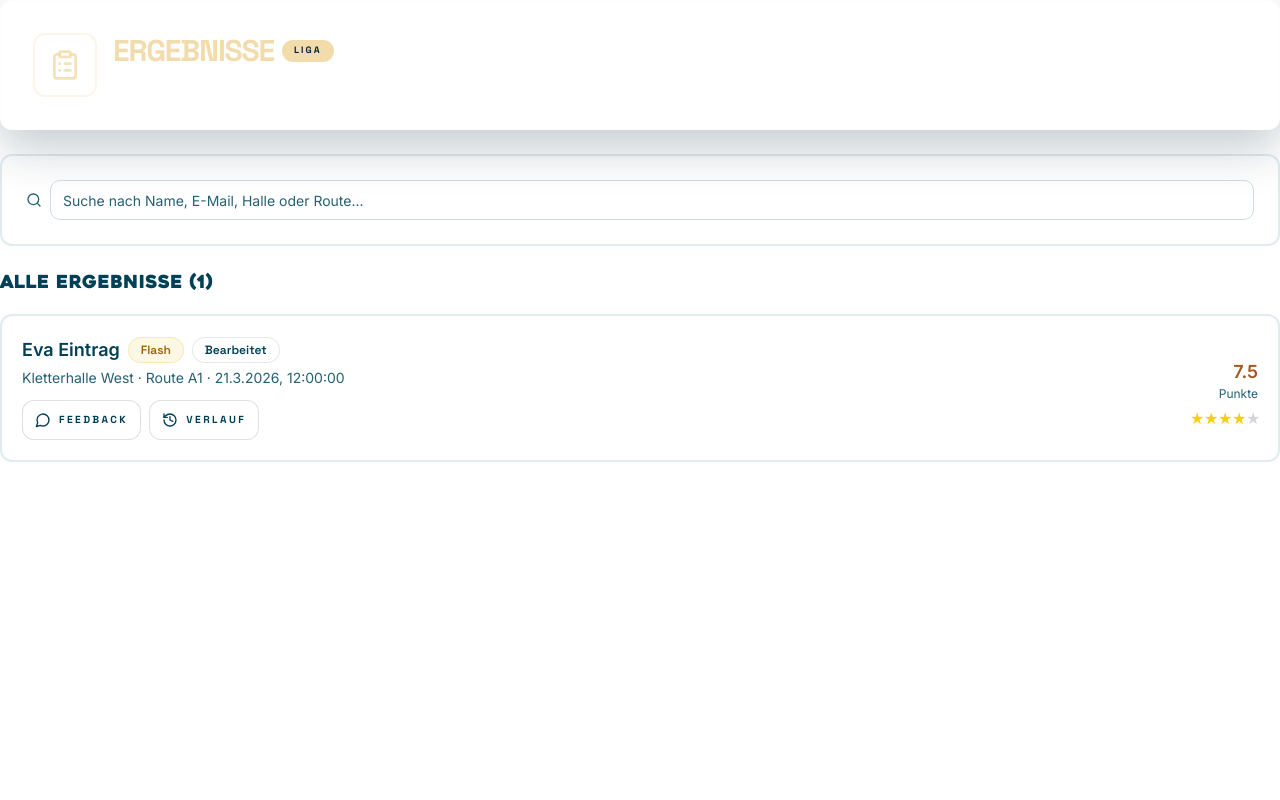
Scenario: LeagueResults › shows the audit history for a result
Expected: the text "Eva Eintrag" is shown, [22, 336, 120, 364]
Click the button with aria-label "verlauf fuer ergebnis a1 von eva eintrag anzeigen". click: click(204, 420)
box: [149, 400, 259, 440]
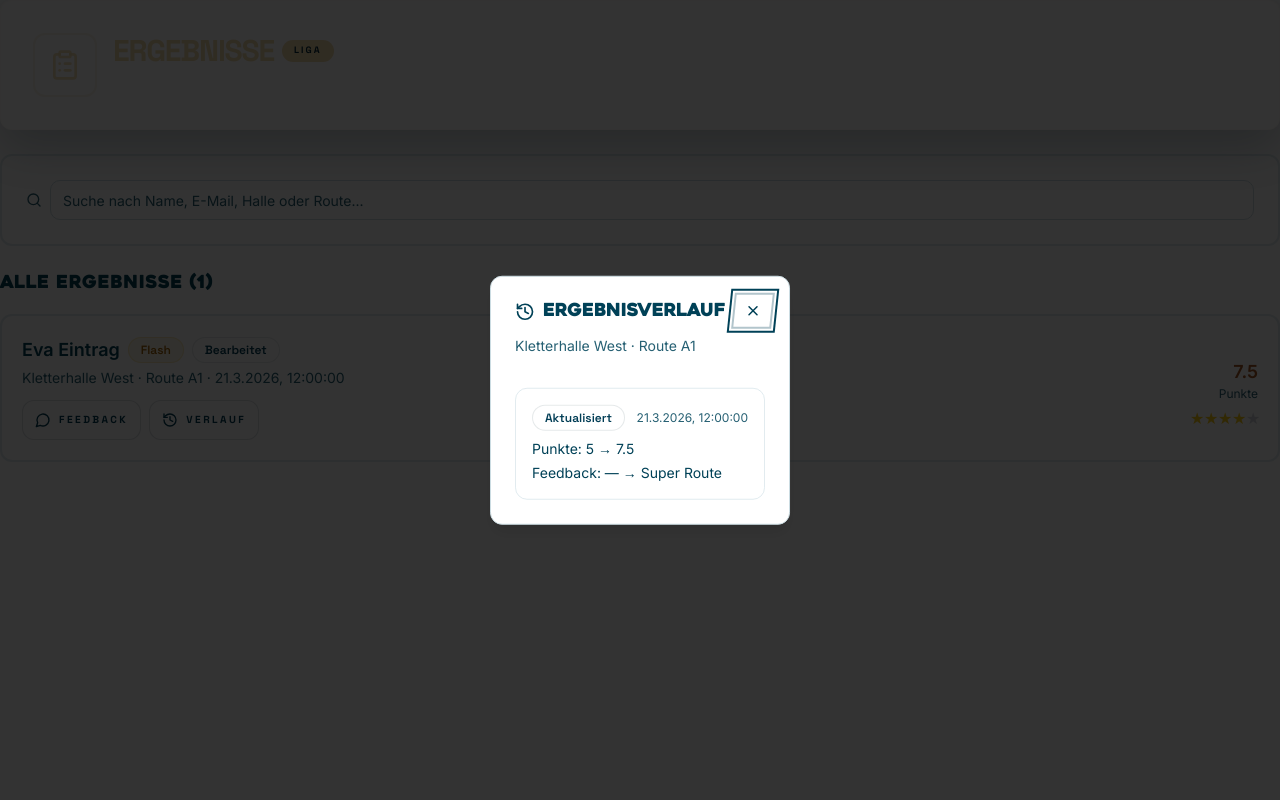
Expected: the heading "Ergebnisverlauf" is shown, [515, 302, 725, 322]
Expected: the text "Punkte: 5 → 7.5" is shown, [532, 439, 634, 456]
Expected: the text "Feedback: — → Super Route" is shown, [532, 462, 748, 482]
